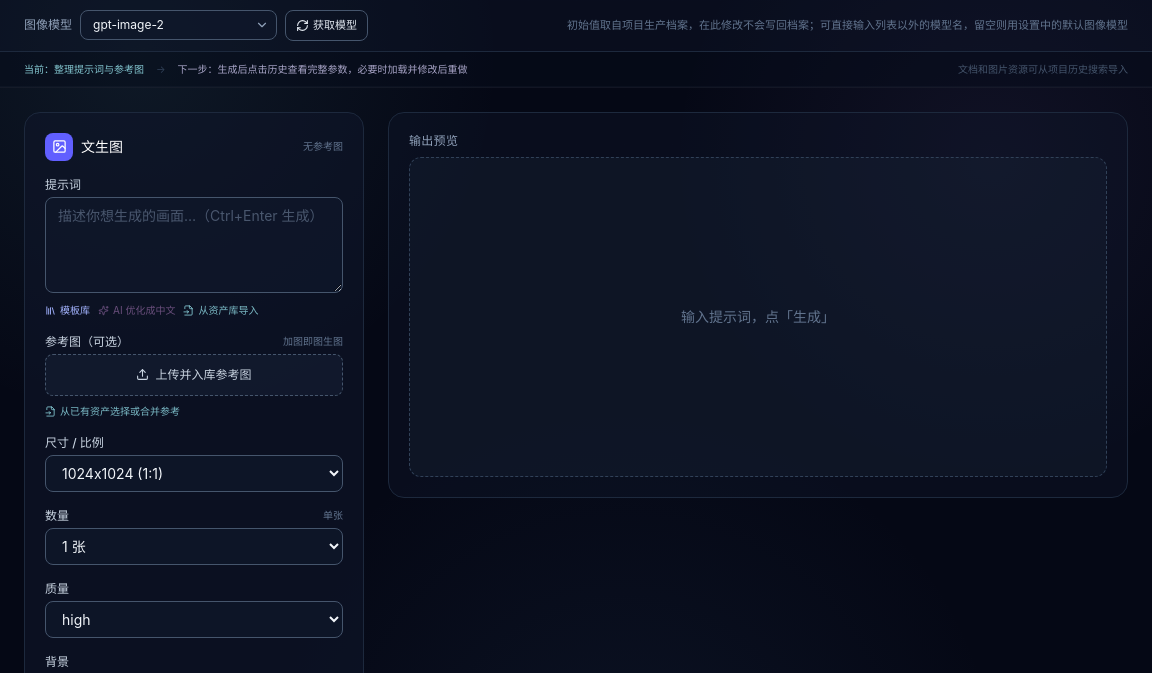
Test case: GeneratePanel model switcher › keeps the current model when the gateway catalogue cannot be read
Click the button with aria-label "获取模型（图像模型）": [326, 25] box 285,10 -> 368,40
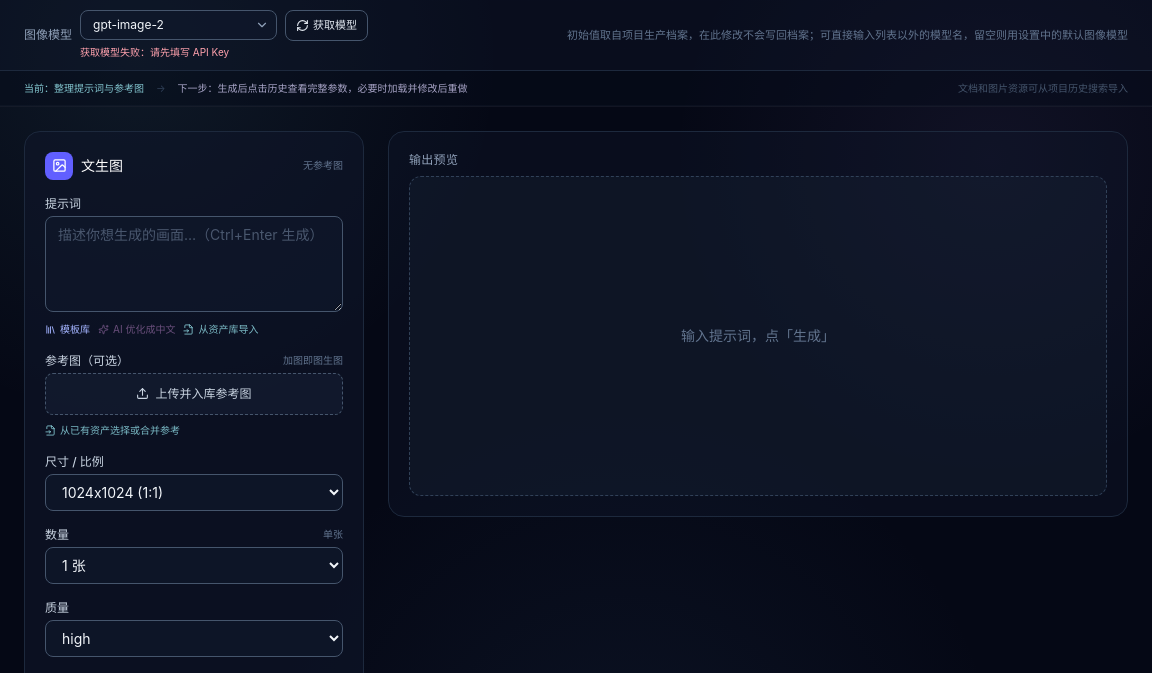
Now the text "获取模型失败：请先填写 API Key" is shown, box 80,46 -> 229,58
